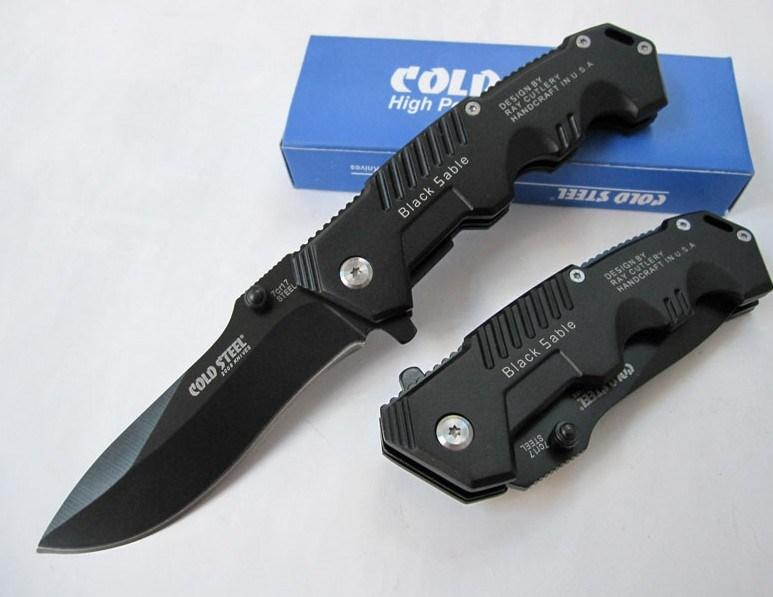knife: (25, 252, 375, 573)
